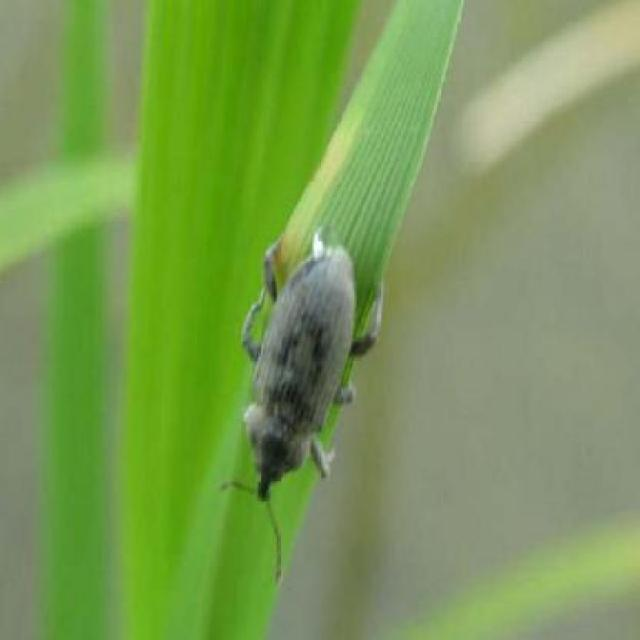rice-bug: (237, 230, 375, 504)
